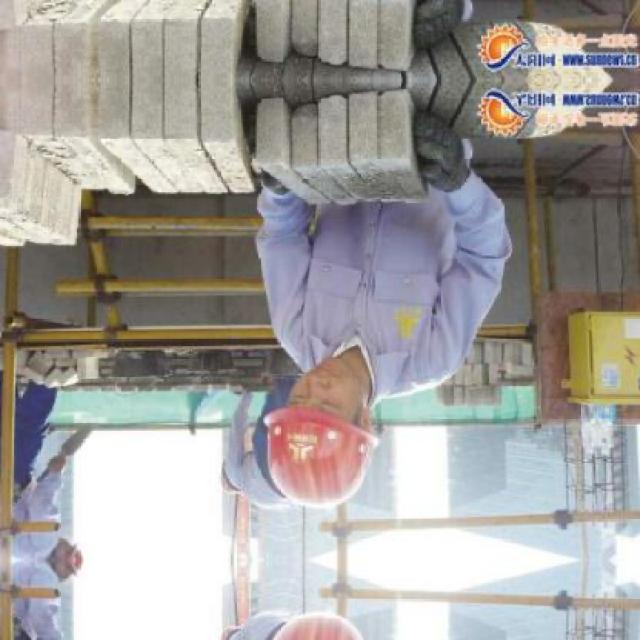con casco: (264, 343, 411, 503)
